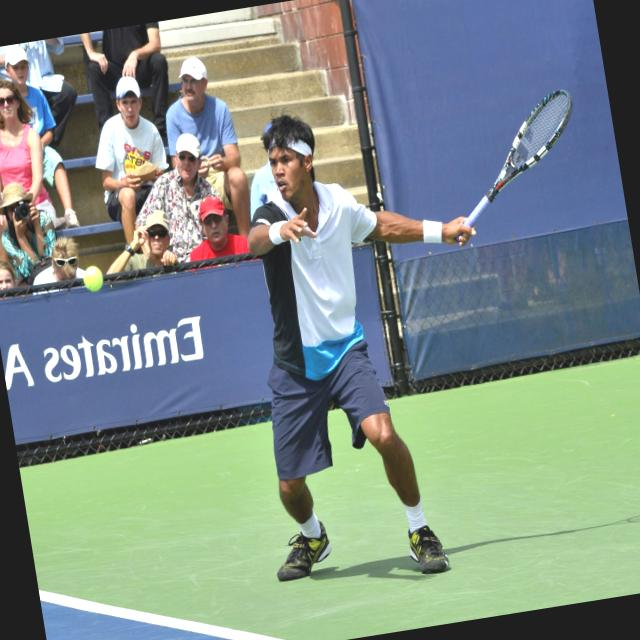Tennis Ball: (82, 265, 105, 294)
